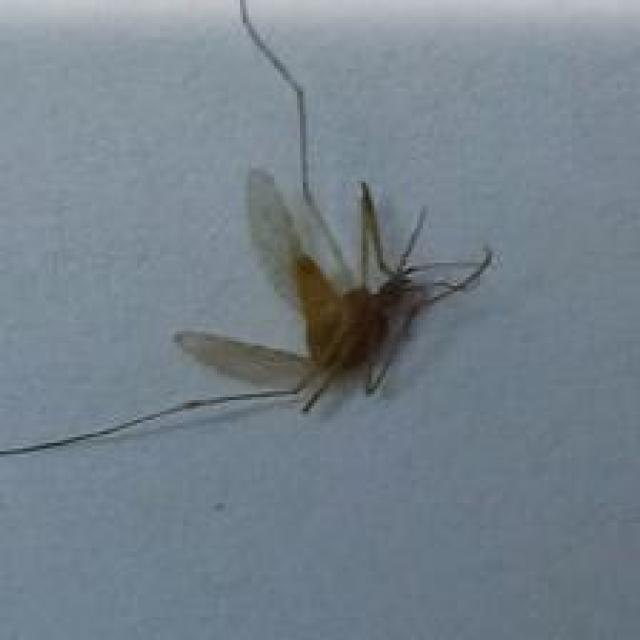Culex: (0, 0, 497, 466)
